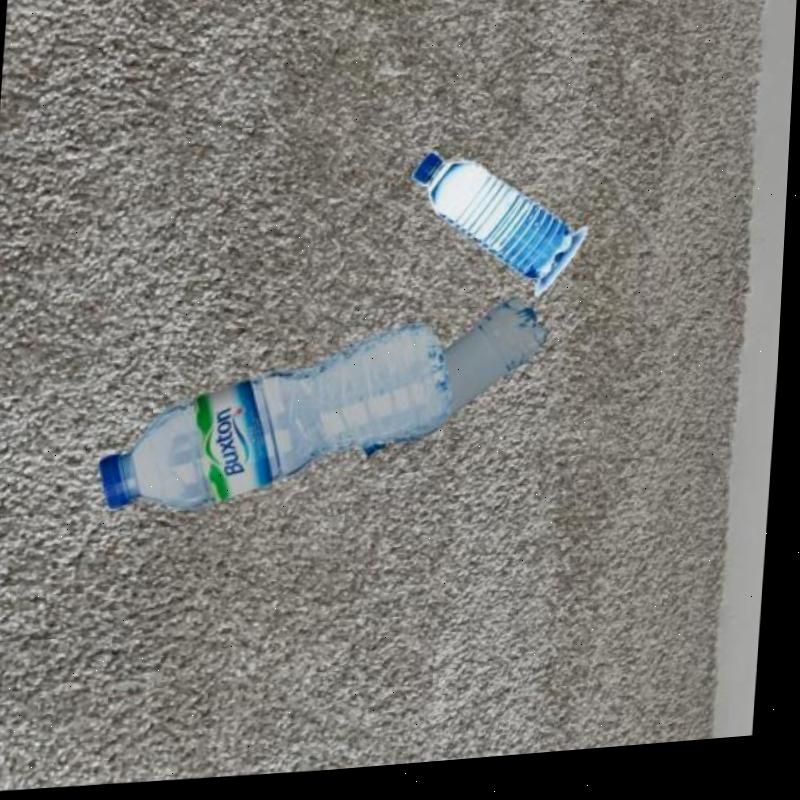botella: (99, 320, 464, 524), (364, 300, 553, 470), (407, 145, 583, 297)
